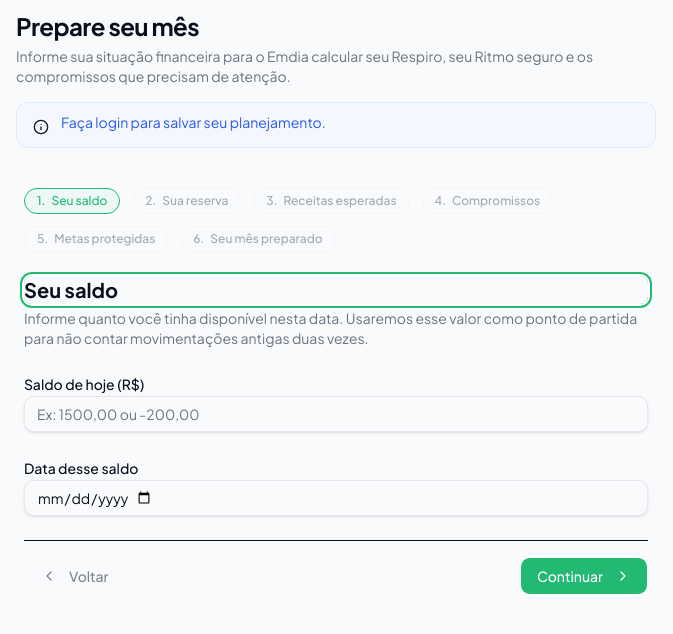
Test: PrepareMonthWizard (fluxo) › data futura no saldo é bloqueada e mantém o usuário na mesma etapa
Type "1000,00" into the field labelled "Saldo de hoje (R$)" at (336,414), box [24,396,648,432]
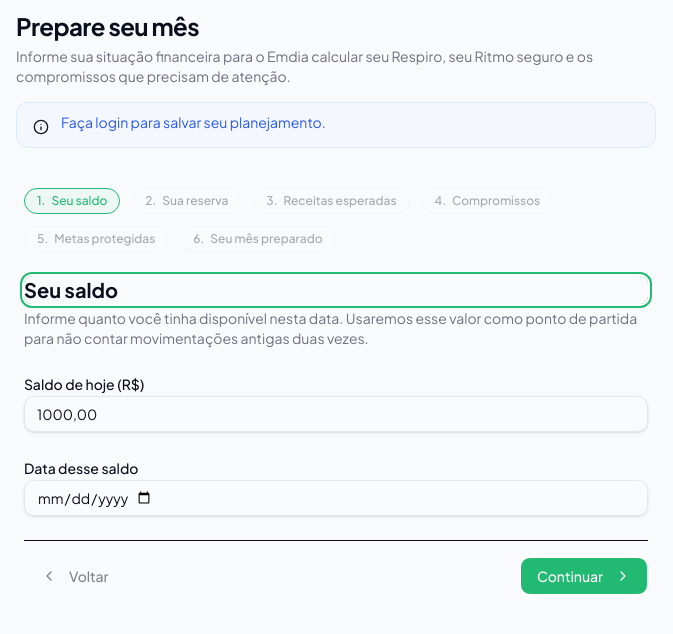
Type "2099-01-01" into the date field labelled "Data desse saldo" at (336,498), box [24,480,648,516]
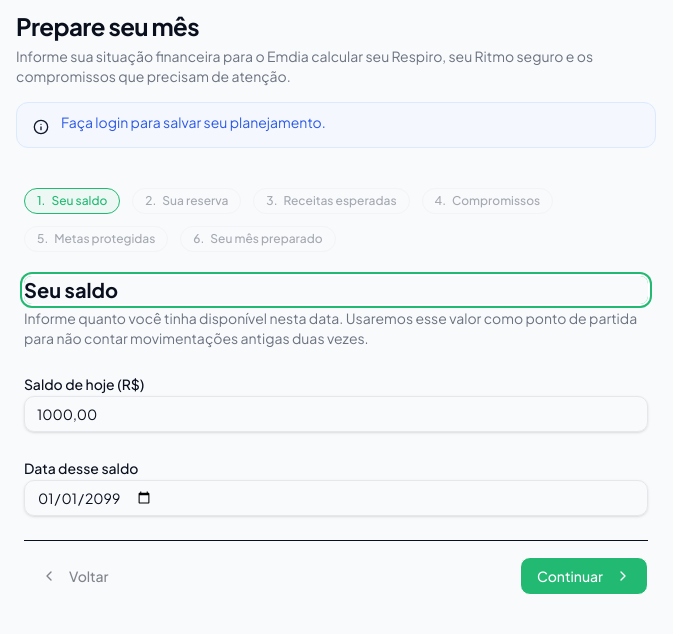
Click the button "Continuar" at (584,576), box [520,557,648,595]
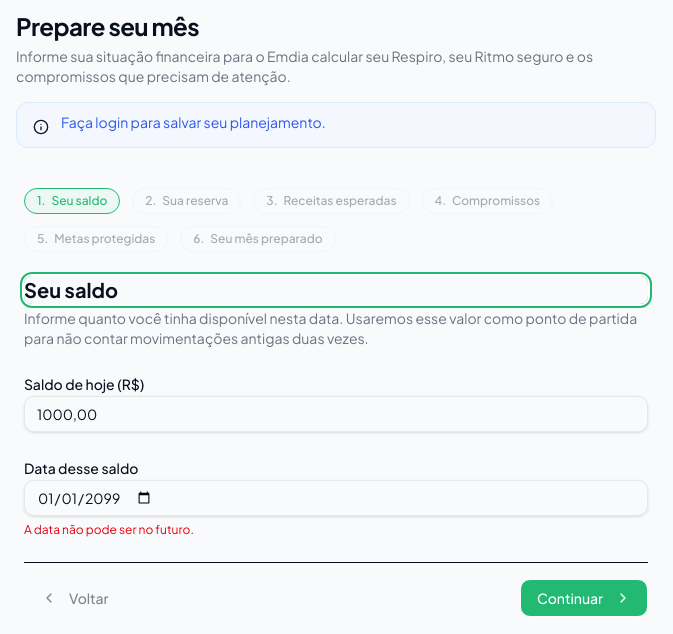
Expected: the heading "Seu saldo" is shown, [24,276,648,304]
Expected: the text "A data não pode ser no futuro." is shown, [24,522,194,537]
